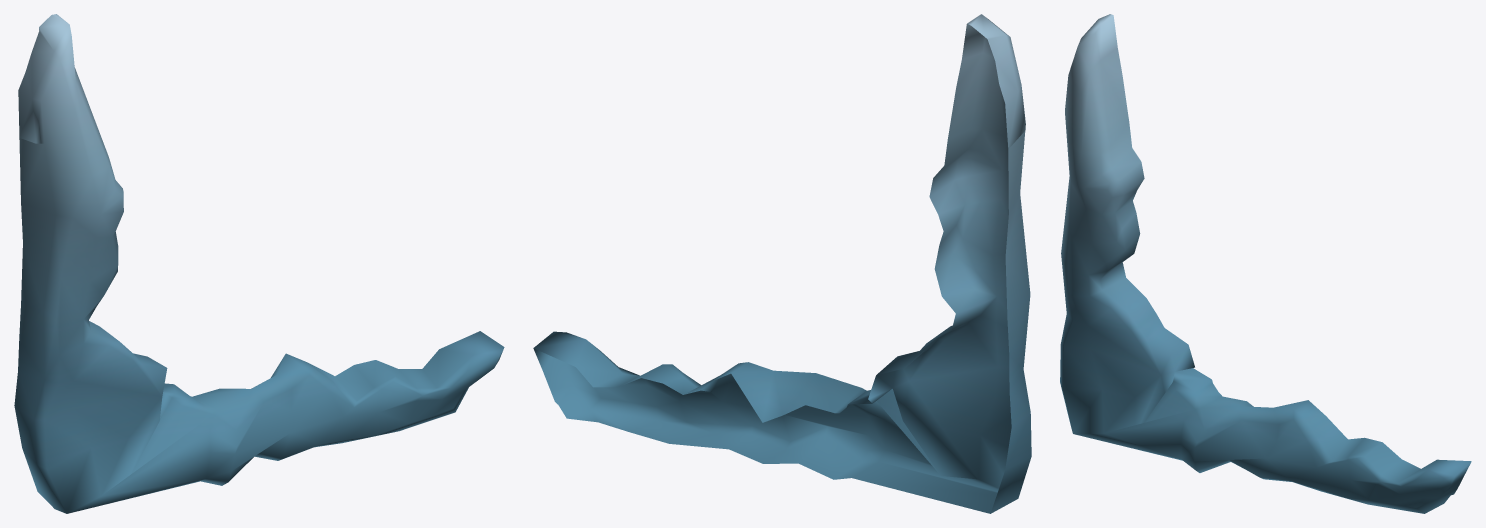
Rendered from Snow_cap_03.fbx.
3 views of the same model, side by side, from view 1: azimuth 30°, elevation 25°; view 2: azimuth 150°, elevation 25°; view 3: azimuth 330°, elevation 25° (orthographic). The views are drawn at different scales.
Visible parts, largest first — view 1: Snow_cap_03; view 2: Snow_cap_03; view 3: Snow_cap_03.
Boxes of the visible parts, bbox=[...] form: Snow_cap_03: bbox=[14, 14, 504, 513]; Snow_cap_03: bbox=[533, 14, 1031, 513]; Snow_cap_03: bbox=[1060, 14, 1471, 513].
Size of the model in its own units: 149 by 147 by 23.4.
